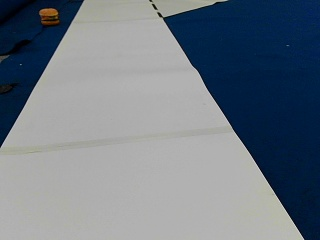burger: (39, 7, 61, 26)
